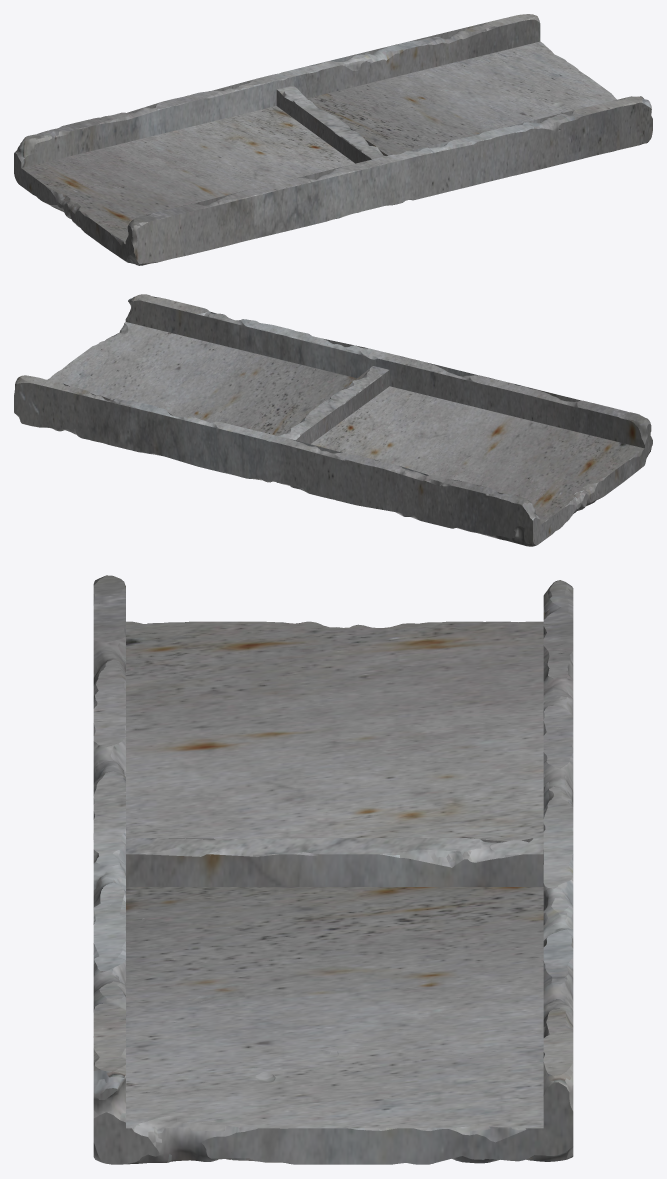
File: plita_bet2_004.fbx
3 renders of one model, top to bottom at view 1: azimuth 30°, elevation 25°; view 2: azimuth 150°, elevation 25°; view 3: azimuth 270°, elevation 25°, orthographic. The views are drawn at different scales.
Parts seen in each view (by area): view 1: plita_bet_002_7; view 2: plita_bet_002_7; view 3: plita_bet_002_7.
Part boxes in pixels (bbox=[...]): plita_bet_002_7: bbox=[14, 14, 652, 265]; plita_bet_002_7: bbox=[14, 294, 652, 546]; plita_bet_002_7: bbox=[93, 575, 573, 1164].
Bounding box in the file's own units: 600 × 47.55 × 240.
Materials: 1 (1 with a texture image).
